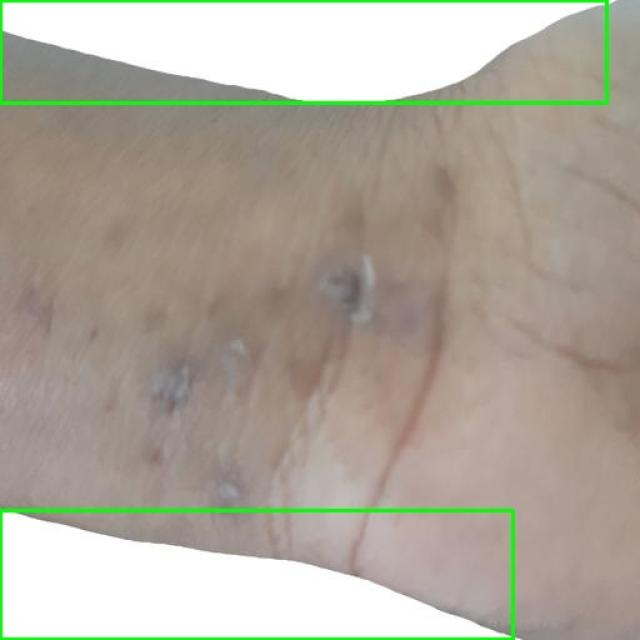Scabies: (0, 510, 512, 639), (0, 0, 606, 102)
